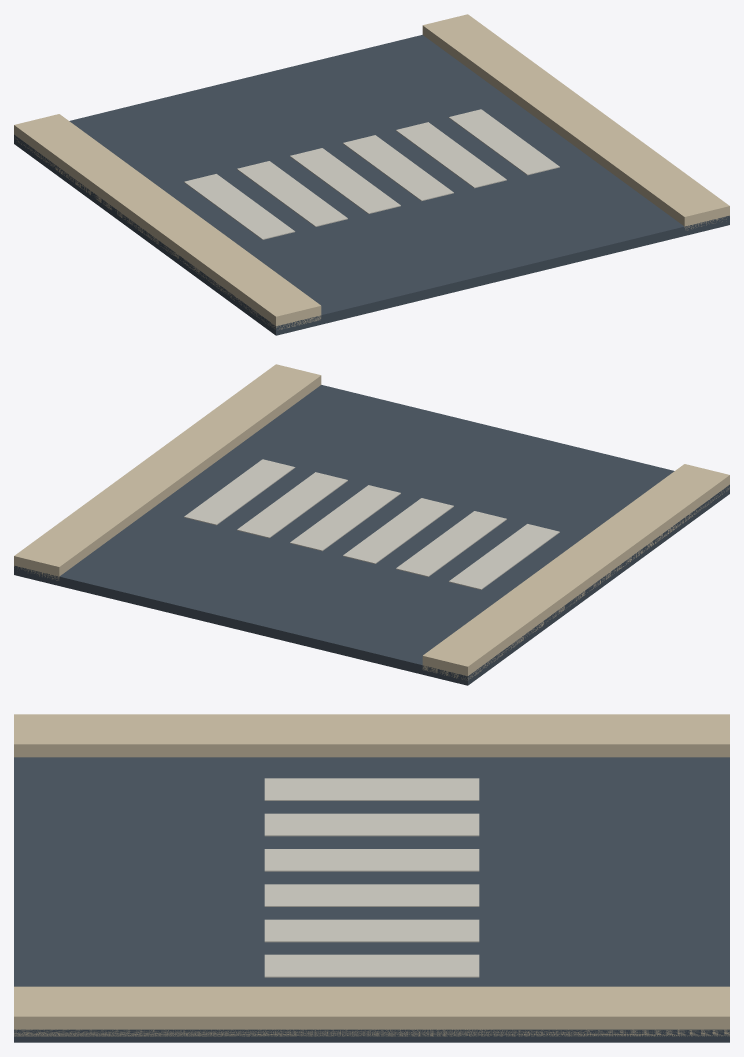
Rendered from road-crossing.glb.
3 views of the same model, one above another, from view 1: azimuth 30°, elevation 25°; view 2: azimuth 150°, elevation 25°; view 3: azimuth 270°, elevation 25° (orthographic). The views are drawn at different scales.
Visible parts, largest first — view 1: asset_root; view 2: asset_root; view 3: asset_root.
Part boxes in pixels (bbox=[...]): asset_root: bbox=[14, 14, 729, 335]; asset_root: bbox=[14, 364, 729, 685]; asset_root: bbox=[14, 714, 729, 1042].
Size of the model in its own units: 6 by 0.24 by 6.
